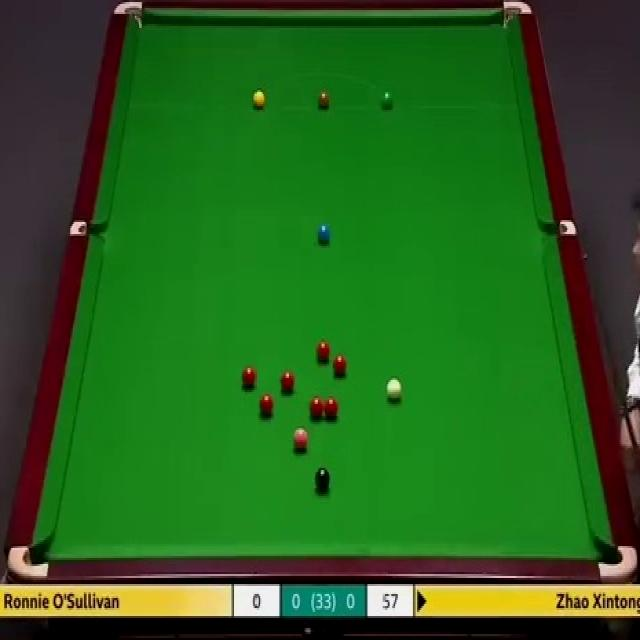black-ball: (314, 467, 331, 493)
blue-ball: (317, 223, 331, 244)
brown-ball: (316, 88, 331, 110)
green-ball: (380, 90, 395, 110)
pink-ball: (291, 426, 309, 452)
red-ball: (332, 352, 348, 379), (308, 396, 324, 421), (323, 396, 339, 421), (258, 394, 274, 418), (315, 338, 330, 363), (280, 370, 295, 394), (241, 367, 256, 388)
white-ball: (386, 378, 402, 403)
yellow-ball: (252, 88, 265, 109)
